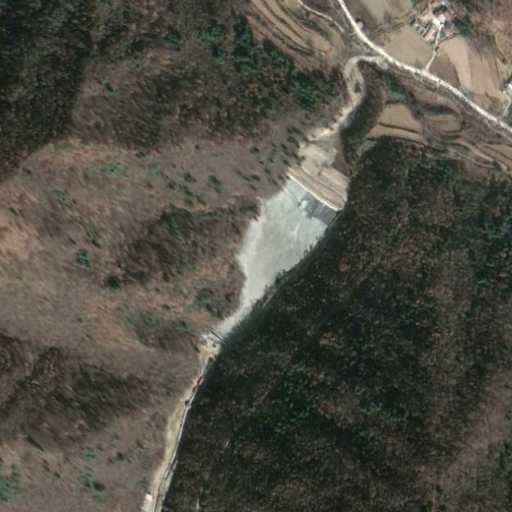tp: (220, 132, 348, 332)
